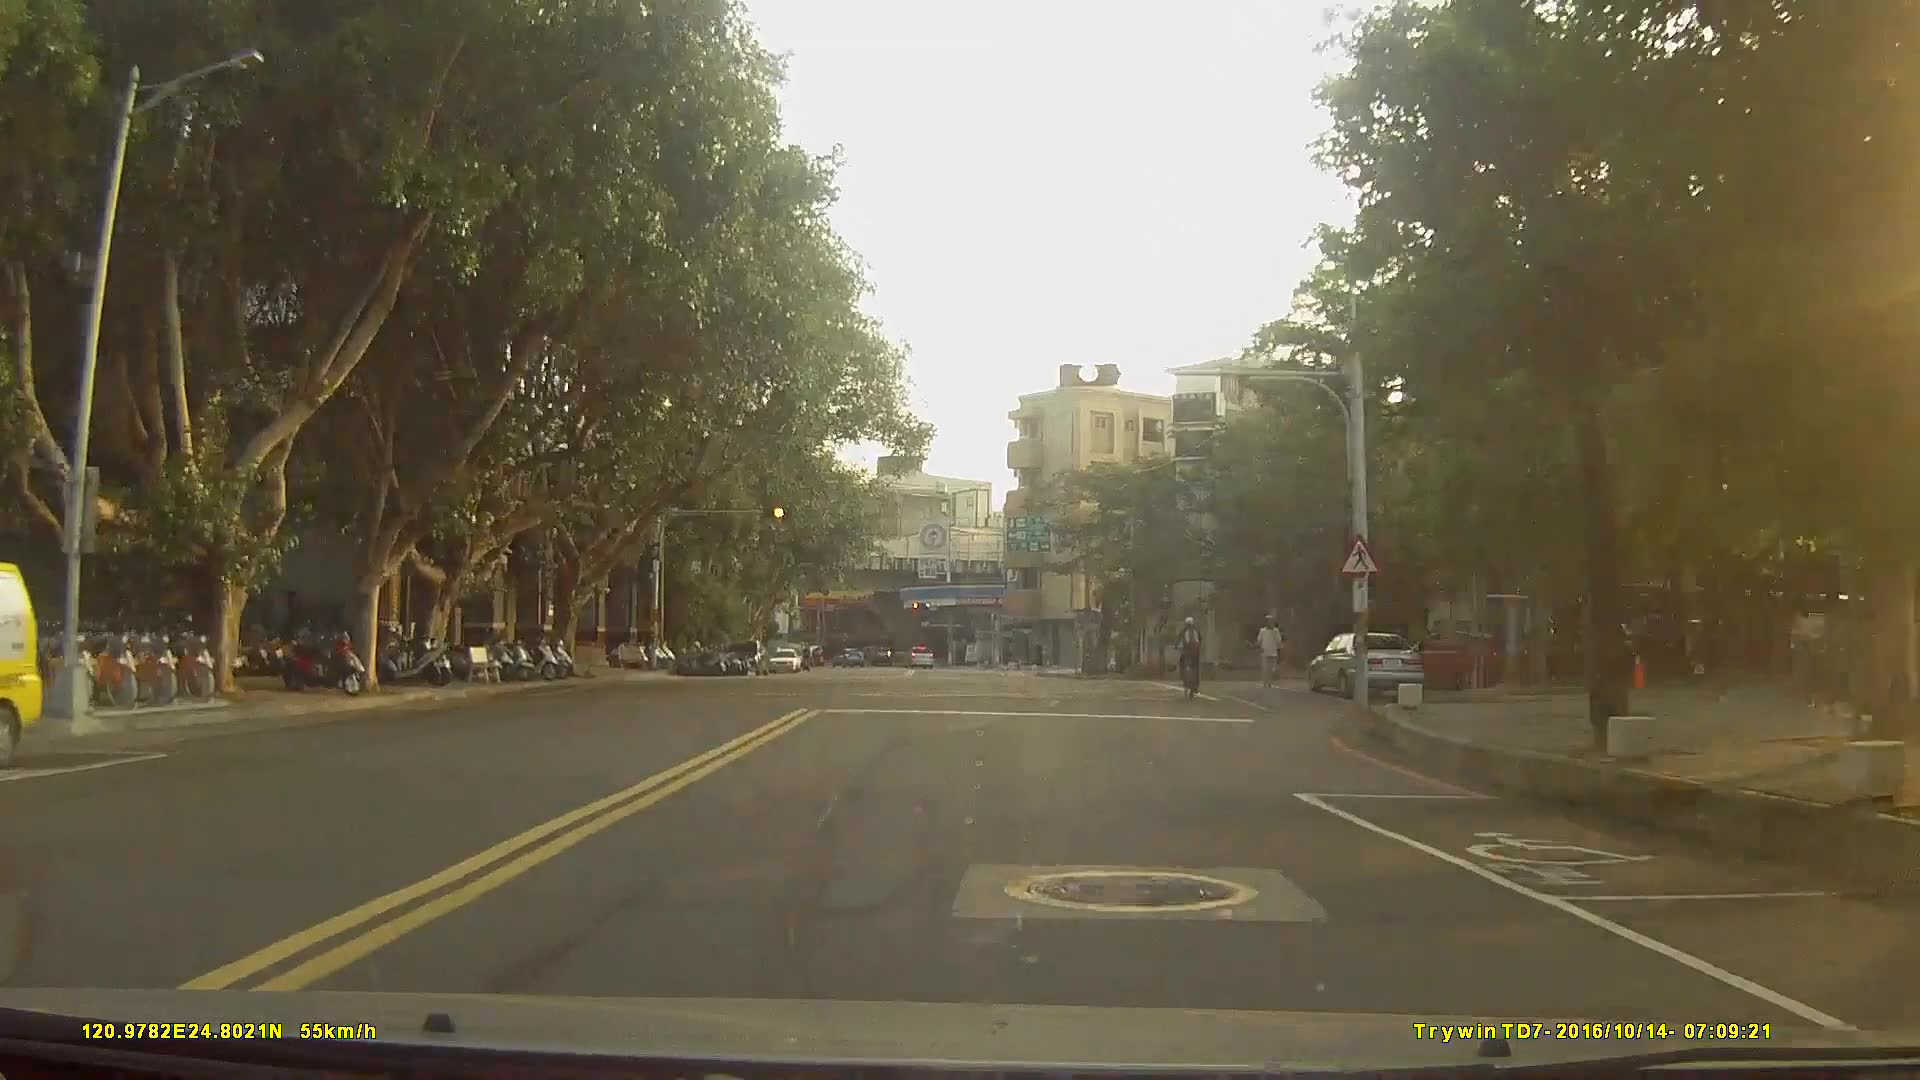pedestrian: (1254, 608, 1287, 692)
rider: (1181, 615, 1210, 693)
vehicle: (1306, 630, 1424, 699), (1388, 626, 1501, 690), (723, 636, 770, 676), (767, 644, 801, 671), (900, 642, 933, 666)
